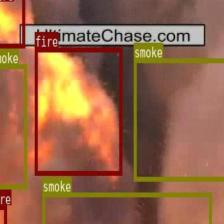fire: (34, 47, 121, 174), (0, 0, 24, 48), (0, 205, 6, 224)
smoke: (133, 57, 224, 180), (42, 192, 211, 224), (0, 63, 26, 188)
